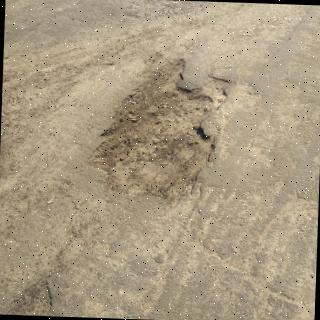pothole: (88, 60, 232, 201)
